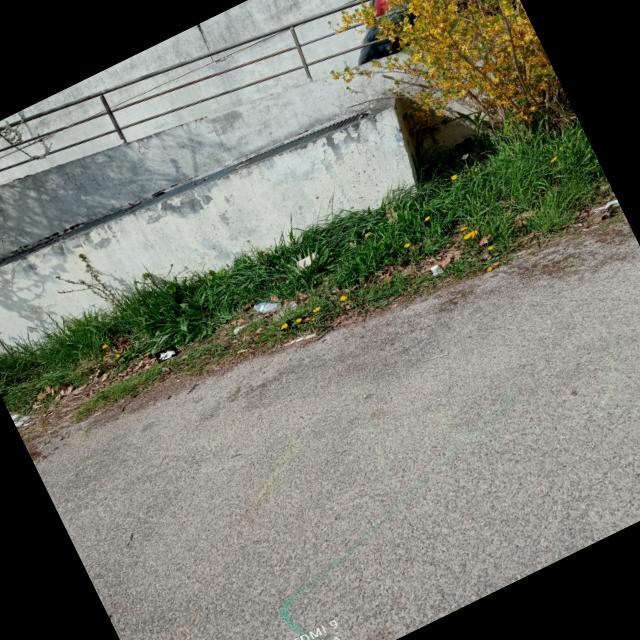Cup: (426, 261, 444, 277)
Other plastic wrapper: (248, 292, 284, 321)
Paper bag: (154, 344, 178, 363)
